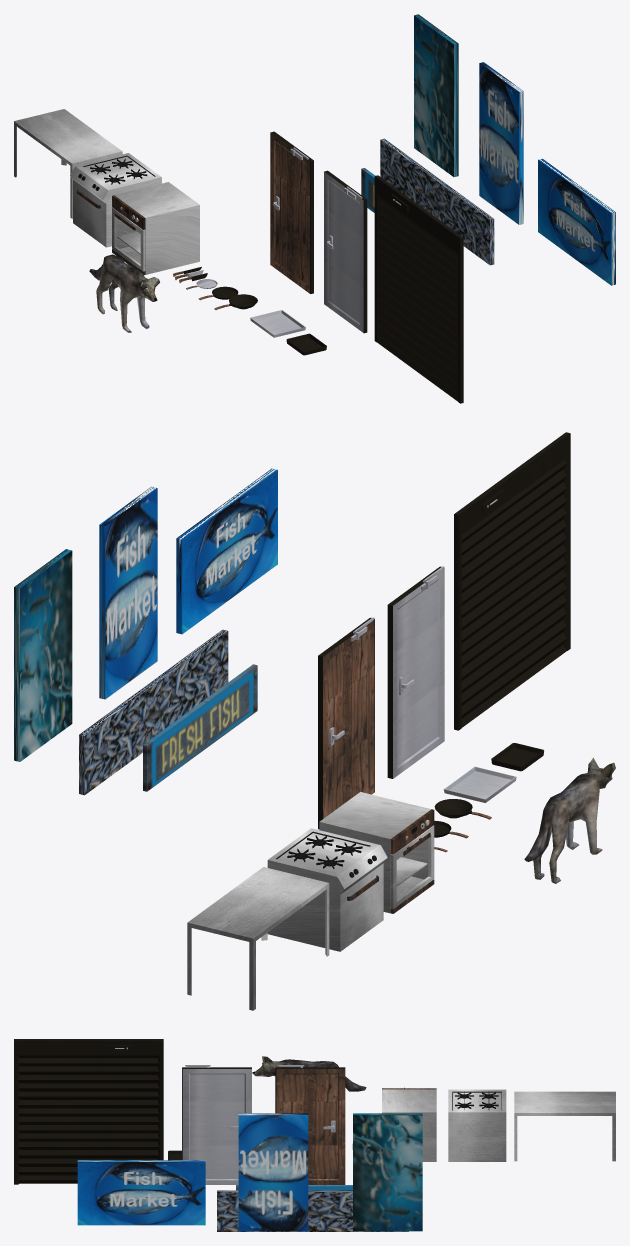
File: stuff3.fbx
The picture shows the model from 3 angles, top to bottom: view 1: azimuth 30°, elevation 25°; view 2: azimuth 150°, elevation 25°; view 3: azimuth 270°, elevation 25°; orthographic projection. The views are drawn at different scales.
Visible parts, largest first — view 1: movingPart, sign_fish2, sign_fish3, sign_fish4, door_metal, door_wooden, furnace, sign_fish, stoves, metal_table, garage_door, coyote (+3 smaller); view 2: movingPart, sign_fish3, sign_fish2, door_metal, sign_fish4, door_wooden, stoves, sign_fish, metal_table, furnace, sign_fish1, garage_door (+4 smaller); view 3: movingPart, sign_fish4, sign_fish3, sign_fish2, door_metal, door_wooden, stoves, garage_door, sign_fish, metal_table, furnace, coyote (+1 smaller).
Part boxes in pixels (bbox=[...]): movingPart: bbox=[377, 196, 458, 401]; sign_fish2: bbox=[414, 14, 458, 176]; sign_fish3: bbox=[479, 62, 523, 224]; sign_fish4: bbox=[538, 158, 615, 285]; door_metal: bbox=[324, 170, 367, 333]; door_wooden: bbox=[270, 131, 313, 293]; furnace: bbox=[112, 182, 199, 275]; sign_fish: bbox=[380, 138, 494, 265]; stoves: bbox=[70, 153, 161, 247]; metal_table: bbox=[14, 109, 122, 218]; garage_door: bbox=[374, 175, 463, 403]; coyote: bbox=[89, 254, 159, 332]; movingPart: bbox=[461, 460, 566, 727]; sign_fish3: bbox=[99, 486, 157, 699]; sign_fish2: bbox=[14, 549, 72, 761]; door_metal: bbox=[387, 566, 444, 778]; sign_fish4: bbox=[176, 468, 277, 634]; door_wooden: bbox=[318, 617, 374, 829]; stoves: bbox=[267, 828, 387, 951]; sign_fish: bbox=[79, 629, 228, 795]; metal_table: bbox=[187, 867, 329, 1010]; furnace: bbox=[319, 792, 434, 913]; sign_fish1: bbox=[143, 664, 257, 791]; garage_door: bbox=[454, 432, 570, 730]; movingPart: bbox=[18, 1055, 159, 1183]; sign_fish4: bbox=[77, 1160, 205, 1225]; sign_fish3: bbox=[238, 1113, 308, 1231]; sign_fish2: bbox=[353, 1113, 422, 1231]; door_metal: bbox=[182, 1065, 251, 1184]; door_wooden: bbox=[275, 1065, 345, 1184]; stoves: bbox=[448, 1089, 506, 1161]; garage_door: bbox=[14, 1039, 163, 1184]; sign_fish: bbox=[217, 1190, 408, 1231]; metal_table: bbox=[514, 1091, 615, 1161]; furnace: bbox=[382, 1088, 436, 1161]; coyote: bbox=[252, 1056, 366, 1091].
Bounding box in the file's own units: 135 × 60.11 × 217.
